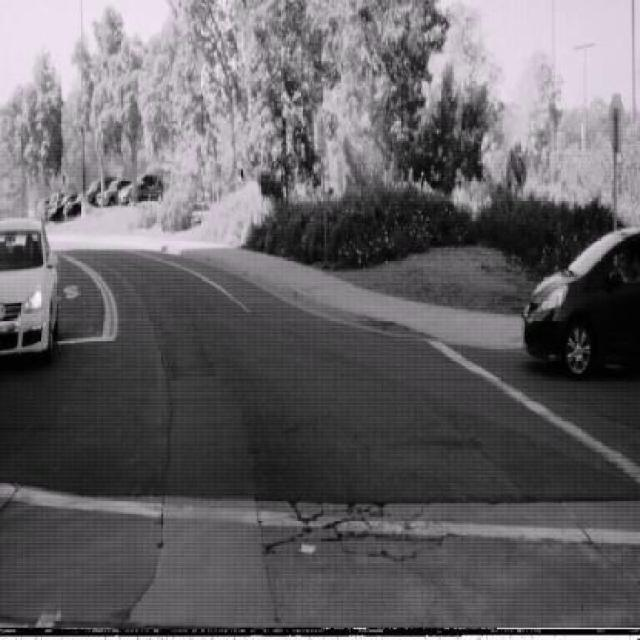pedestrianCrossing: (58, 166, 74, 195)
